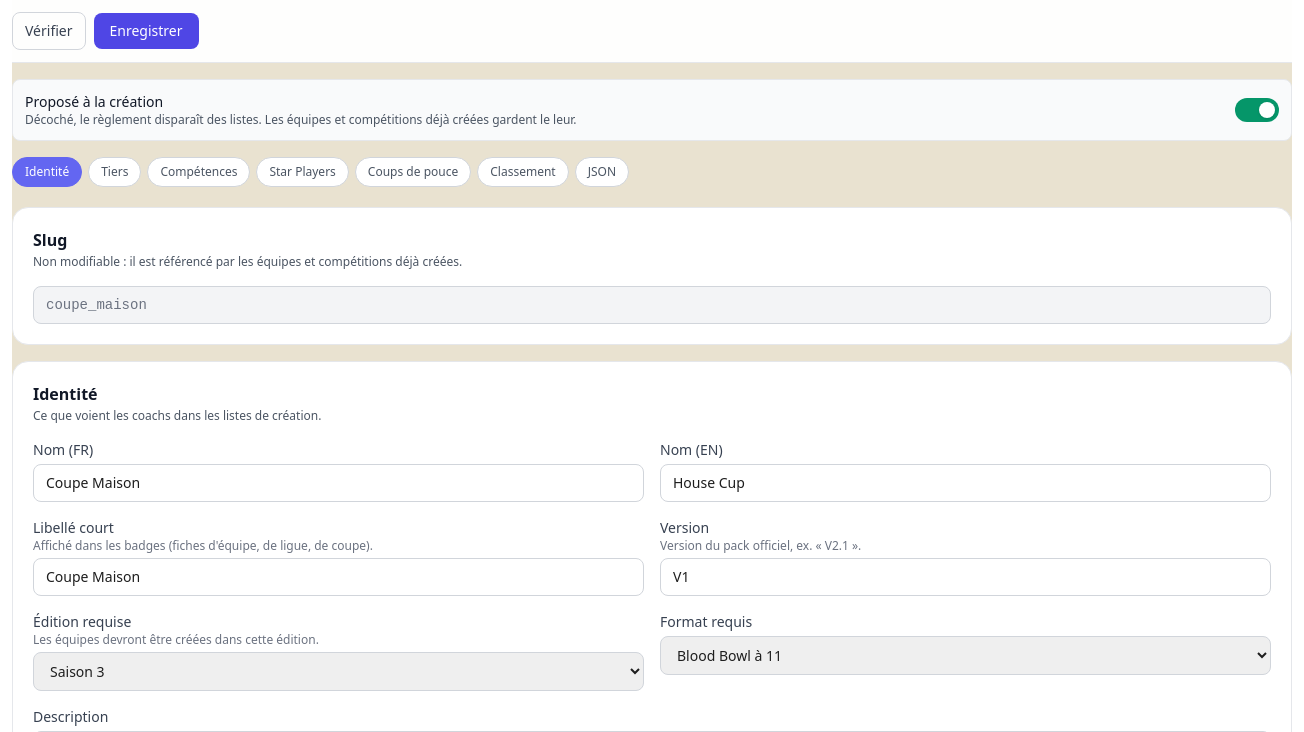
Test: validation servie par le serveur › signale l'onglet qui porte l'erreur
Click the button with test id "ruleset-check": (49, 31) top-left (12, 12), bottom-right (86, 50)
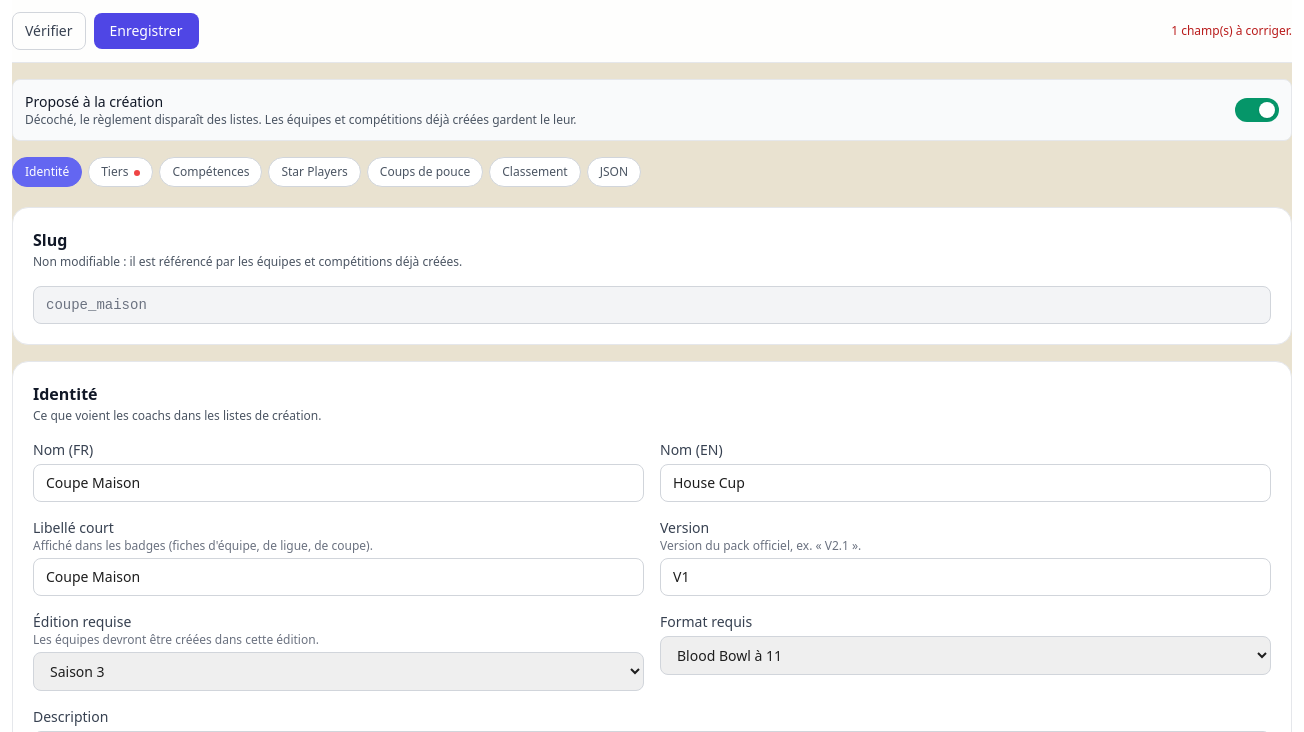
Now the element named "contient une erreur" is shown, box top-left (134, 170), bottom-right (140, 176)
